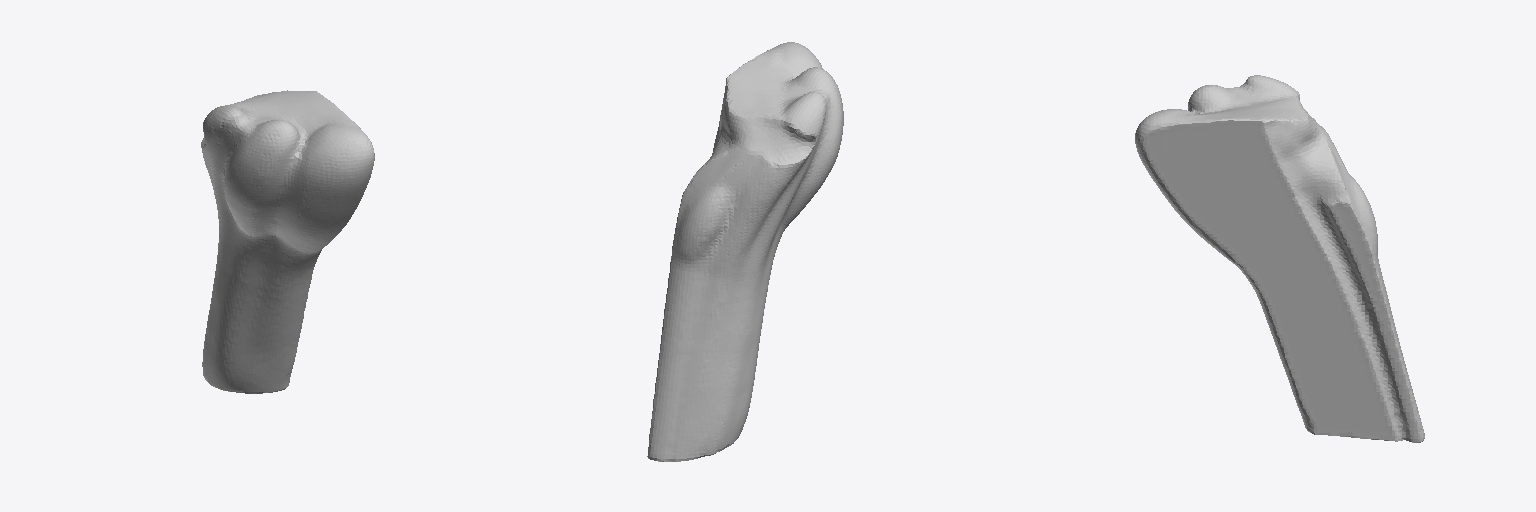
File: Brain_stem55.obj
The picture shows the model from 3 angles: view 1: azimuth 30°, elevation 25°; view 2: azimuth 150°, elevation 25°; view 3: azimuth 270°, elevation 25°; orthographic projection.
Visible parts, largest first — view 1: obj0; view 2: obj0; view 3: obj0.
Part boxes in pixels (x1,y1,x2,y2): obj0: (201,90,374,393); obj0: (647,42,843,461); obj0: (1135,75,1424,442).
Size of the model in its own units: 6.38 by 19.67 by 15.82.